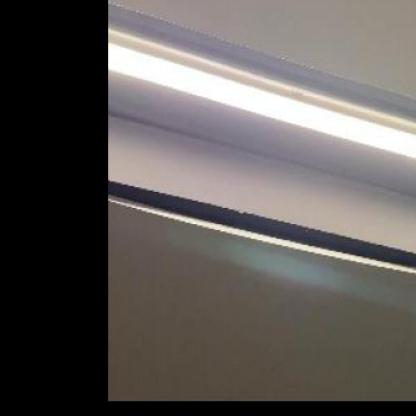light_on: (67, 0, 416, 234)
